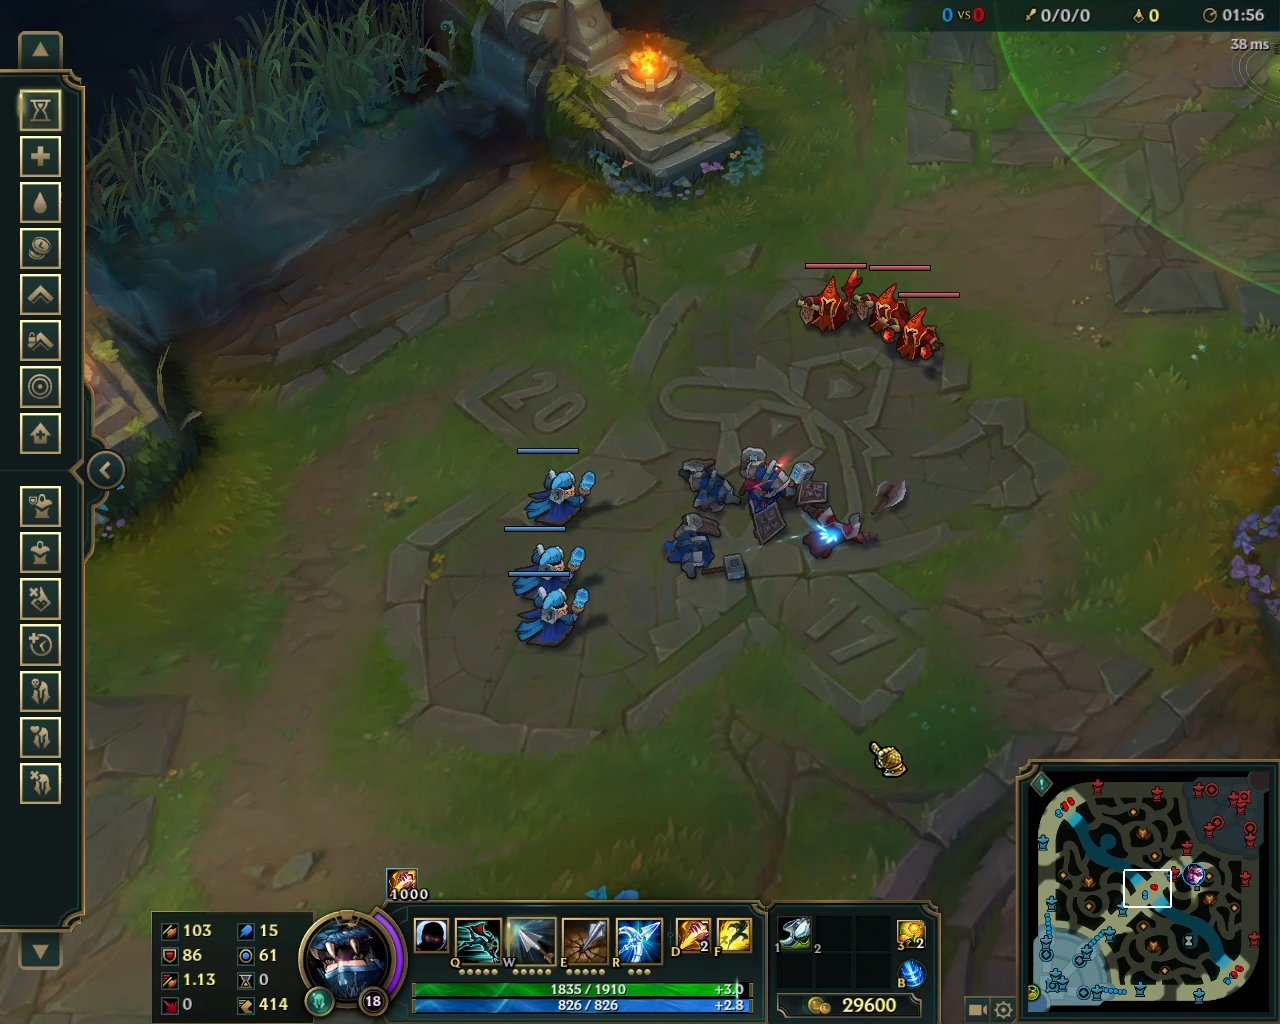EnemyMinion: (853, 264, 930, 346), (793, 261, 864, 338), (887, 292, 960, 365)
